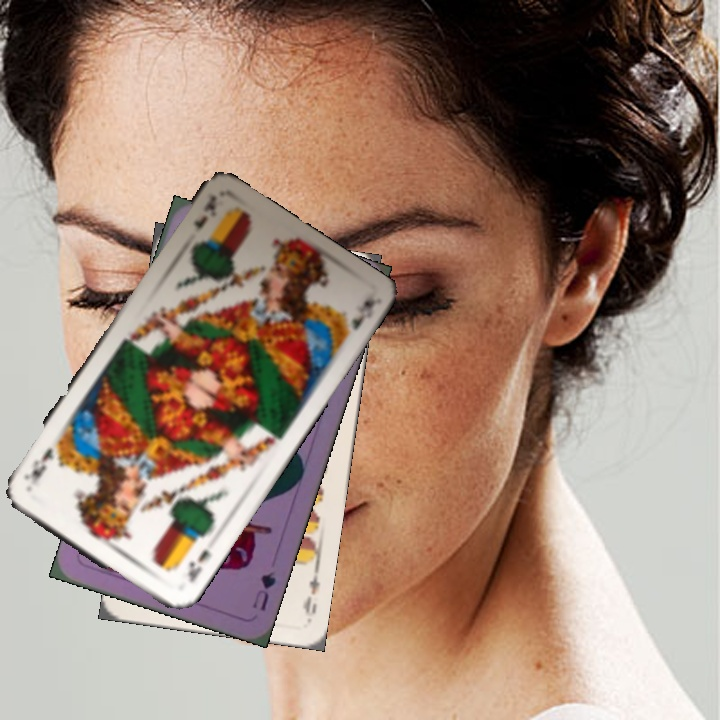E9: (299, 564, 322, 623)
EK: (190, 191, 219, 236), (184, 545, 214, 586)
GU: (248, 567, 279, 614)
